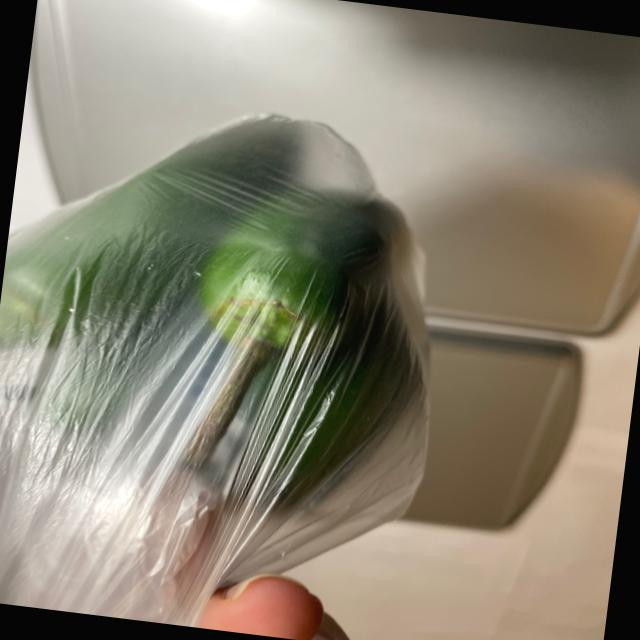chilli: (0, 64, 462, 563)
